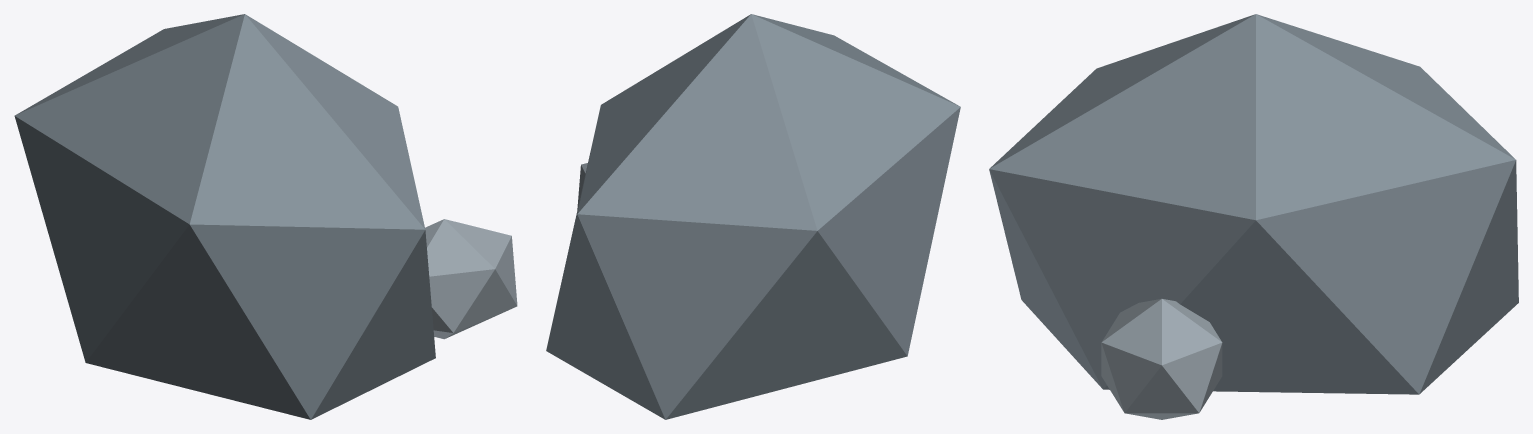
The model's file is LowPoly_Rock_B.fbx.
The picture shows the model from 3 angles, left to right: view 1: azimuth 30°, elevation 25°; view 2: azimuth 150°, elevation 25°; view 3: azimuth 270°, elevation 25°; orthographic projection. The views are drawn at different scales.
Visible parts, largest first — view 1: Rock.001, RockChip; view 2: Rock.001; view 3: Rock.001, RockChip.
Boxes of the visible parts, box(x1,y1,x2,y2) form: Rock.001: box(14, 14, 435, 419); RockChip: box(425, 219, 517, 339); Rock.001: box(546, 14, 960, 419); Rock.001: box(989, 14, 1518, 394); RockChip: box(1101, 298, 1222, 419).
Size of the model in its own units: 2.11 by 1.75 by 2.53.
